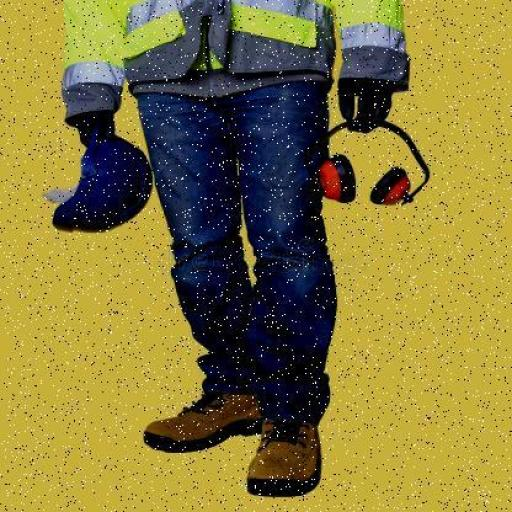safety_shoe: (142, 385, 262, 448), (250, 416, 321, 500)
